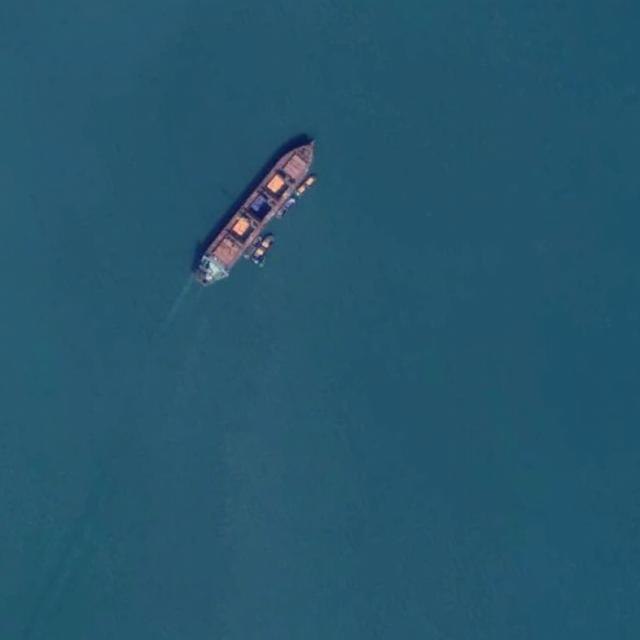ship: (193, 134, 318, 284)
